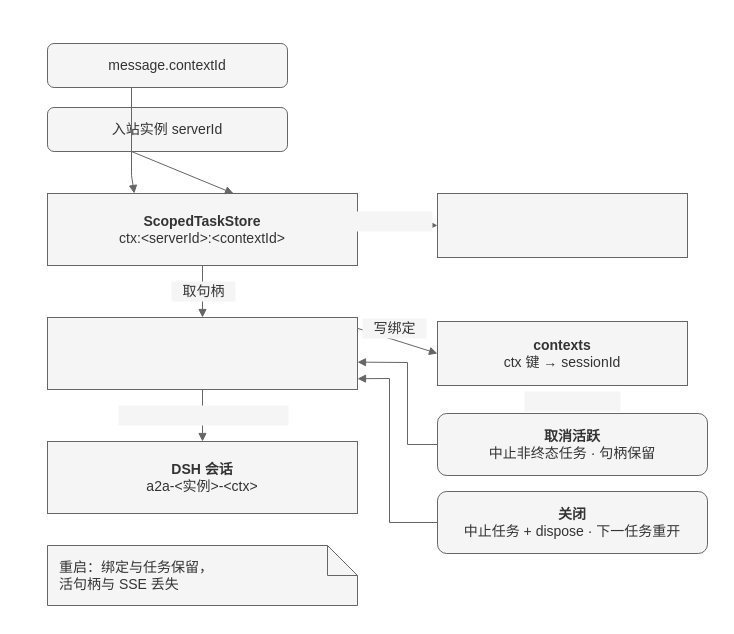
This 734x634 diagram has some shape labels left out. Here are the shapes that lost their labels. From the top down, the centre of each, then its label:
the point at 394,221: 读写任务
the point at 562,225: tasks 任务记录
the point at 202,353: ContextSessionPool 内存句柄 · 单飞
the point at 203,415: agents.create / resume
the point at 572,401: 面板 / API
